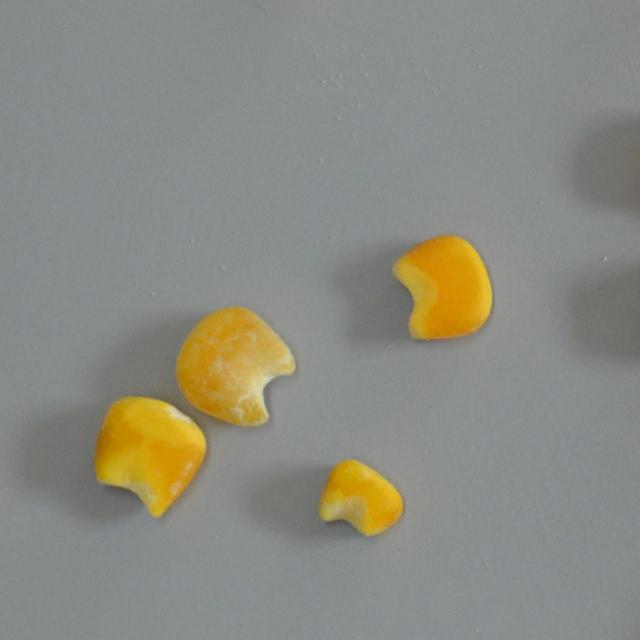no_canjicado: (388, 233, 493, 340), (318, 458, 406, 537)
pelicula: (172, 304, 296, 426), (92, 394, 206, 518)
